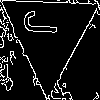J: (24, 9, 65, 37)
